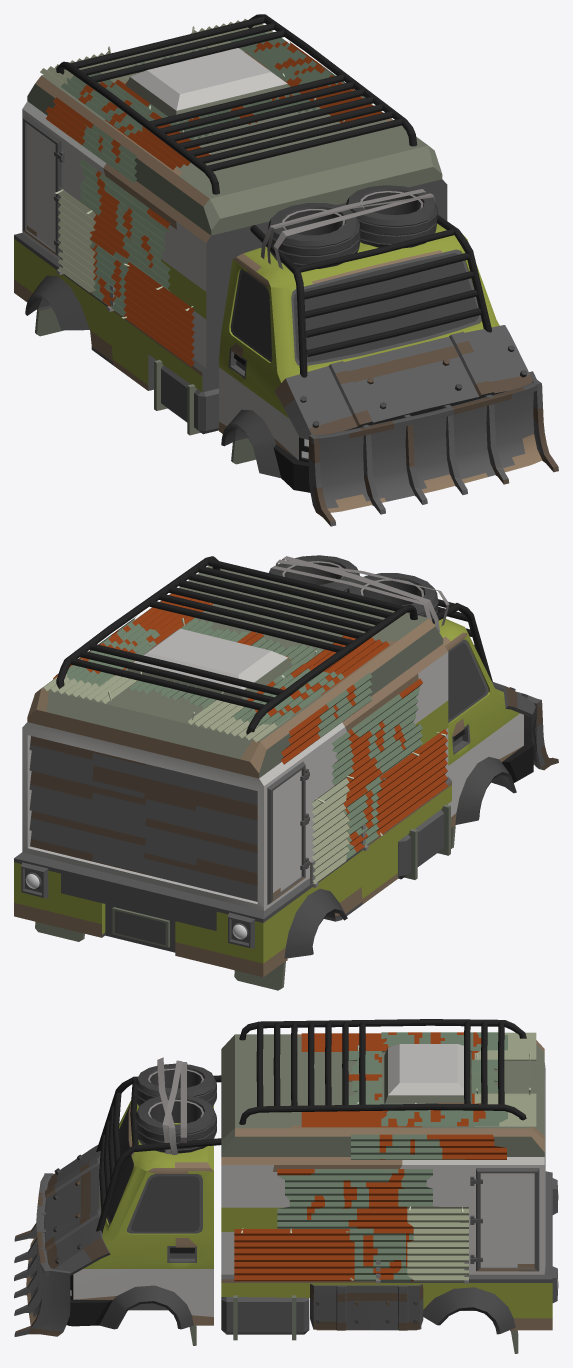
The model's file is truck_armored_lev1.glb.
The picture shows the model from 3 angles, top to bottom: view 1: azimuth 30°, elevation 25°; view 2: azimuth 150°, elevation 25°; view 3: azimuth 270°, elevation 25°; orthographic projection. The views are drawn at different scales.
Parts seen in each view (by area): view 1: truck_armored_lev1; view 2: truck_armored_lev1; view 3: truck_armored_lev1.
Part boxes in pixels (<box>): truck_armored_lev1: <box>14,14,558,526</box>; truck_armored_lev1: <box>14,555,558,990</box>; truck_armored_lev1: <box>14,1019,558,1353</box>.
Bounding box in the file's own units: 1.45 × 1.33 × 2.72.
3 materials, 1 textured.
